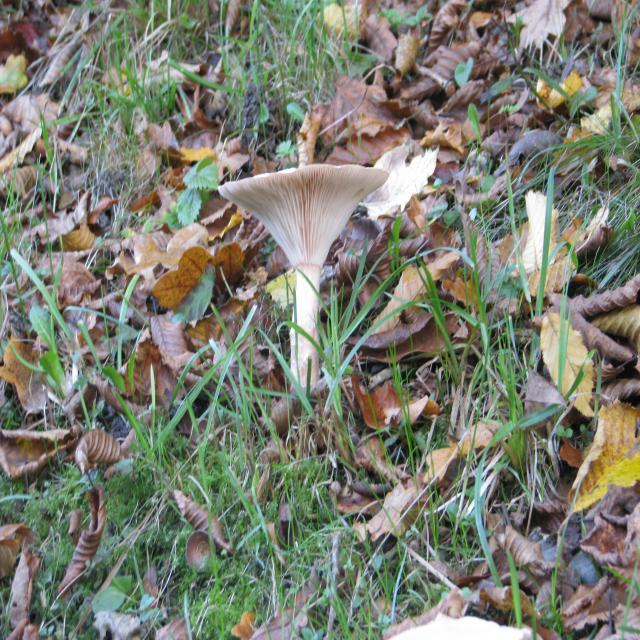Clitocybe maxima: (219, 168, 388, 383)
